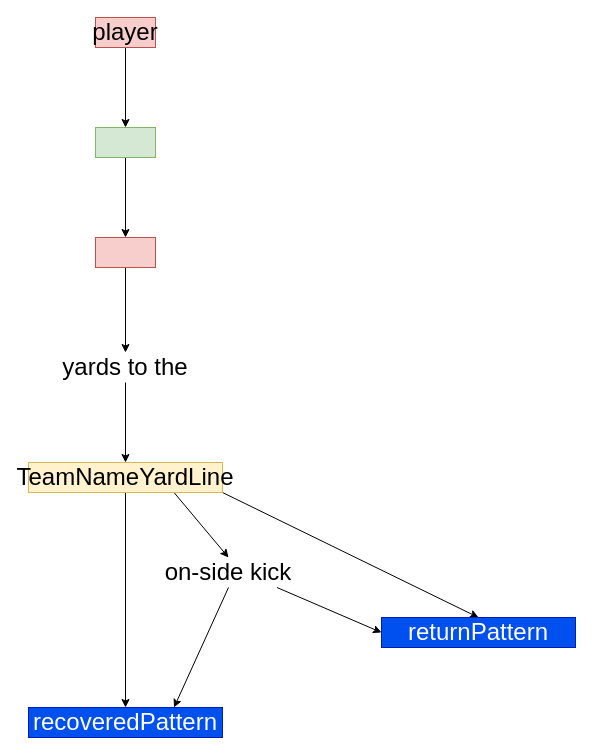
Image size: 593x755. Some labels were removed from this diagram. Here are the shapes that lost their labels. From the top down, the box of each, then its label:
(94, 126, 156, 158): kickoff
(94, 236, 156, 268): kick_ko_yds
